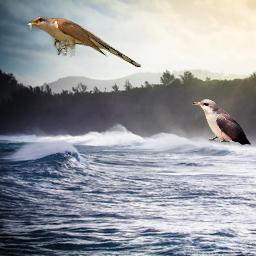Cuckoo: (25, 16, 141, 67), (192, 99, 251, 145)
